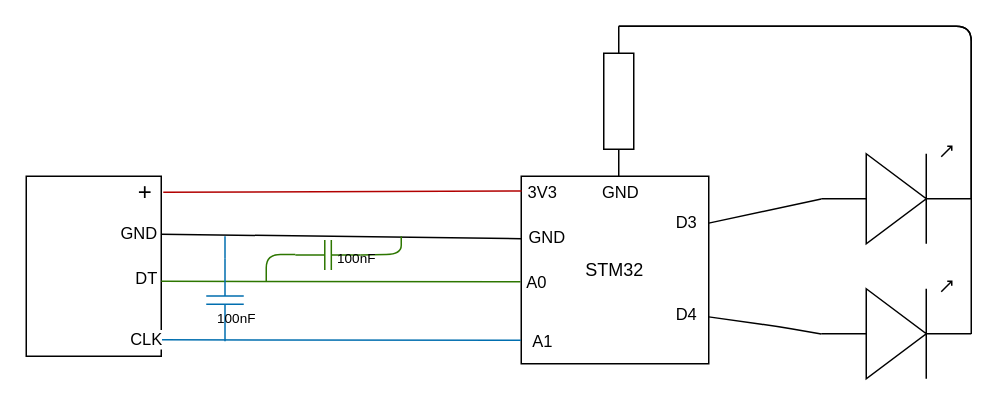
Image size: 999x405. Some labels were removed from this diagram. Each missing label, with the centre of its shape:
"220 Ω" goes at (x=618, y=100).
"Rotary Encoder" goes at (x=93, y=265).
